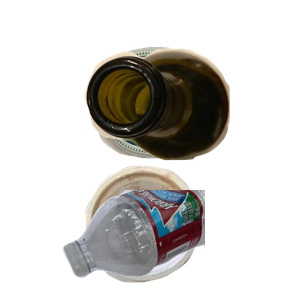glass: (82, 46, 300, 199)
metal: (90, 44, 289, 195)
plastic: (60, 190, 300, 280)
trash: (83, 163, 276, 300)
